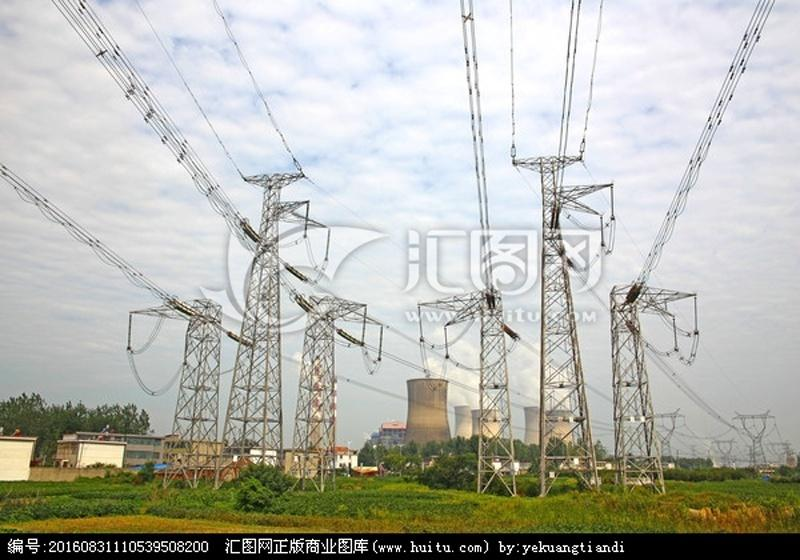power_tower: (503, 138, 615, 488), (217, 155, 302, 488), (417, 278, 533, 494), (598, 271, 708, 491), (148, 288, 223, 485), (295, 281, 362, 484), (631, 405, 689, 471), (735, 403, 777, 470), (706, 433, 743, 472)
